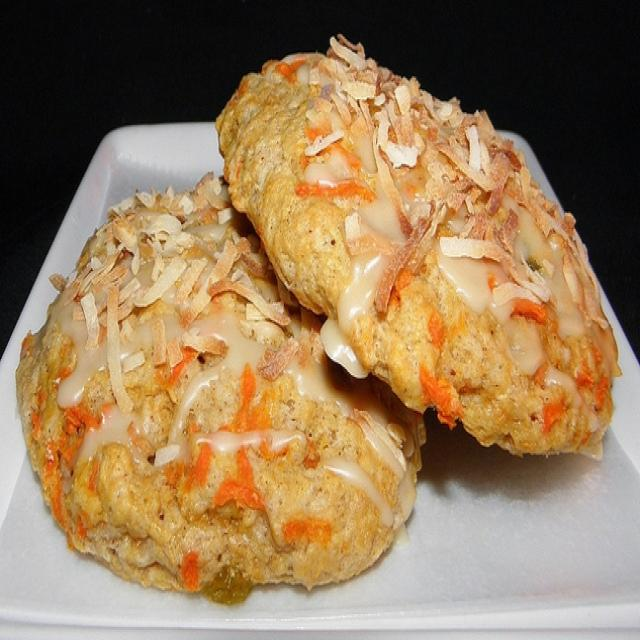面包点心: (19, 23, 626, 625)
